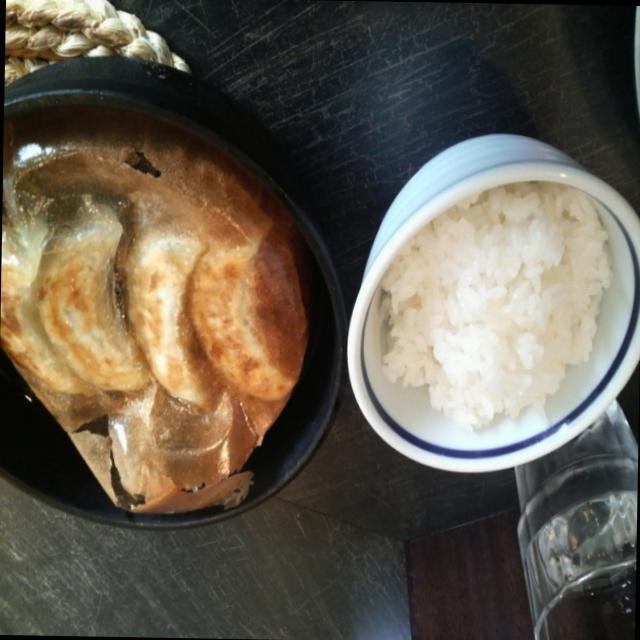Rice: (341, 122, 640, 493)
